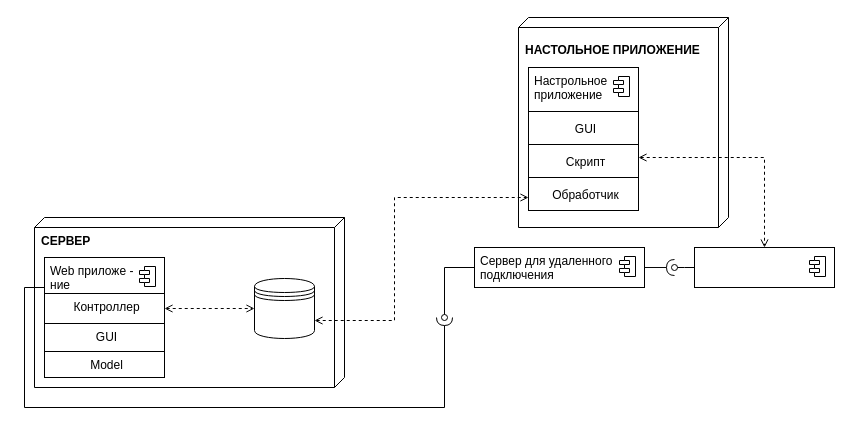
Image size: 852x433. Some labels were removed from this diagram. The centre of each missing label's shape, as x and y in pixels:
E7-30 Измеритель иммитанса: the point at 764,267
БД: the point at 284,308
